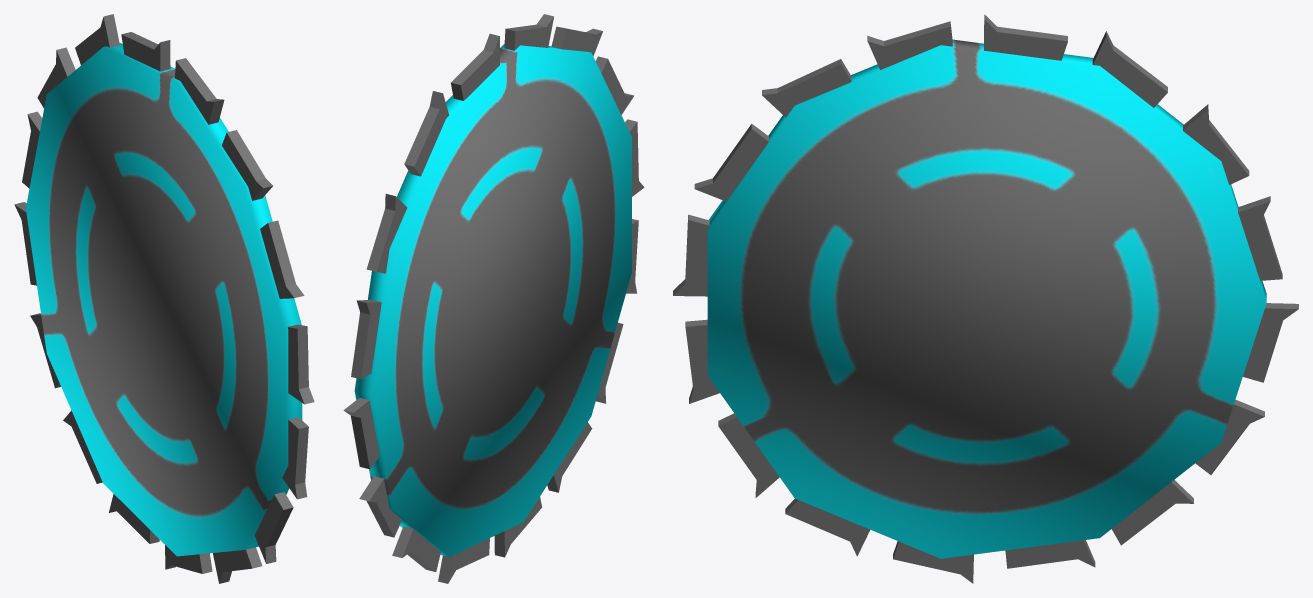
Rendered from Sierra Circular.glb.
3 views of the same model, side by side, from view 1: azimuth 30°, elevation 25°; view 2: azimuth 150°, elevation 25°; view 3: azimuth 270°, elevation 25° (orthographic). The views are drawn at different scales.
Visible parts, largest first — view 1: Circle, Cube; view 2: Circle, Cube; view 3: Circle, Cube.
Part boxes in pixels (bbox=[...]): Circle: bbox=[26, 43, 302, 556]; Cube: bbox=[14, 14, 314, 583]; Circle: bbox=[354, 44, 631, 556]; Cube: bbox=[343, 14, 644, 583]; Circle: bbox=[707, 39, 1266, 558]; Cube: bbox=[673, 14, 1298, 583].
Size of the model in its own units: 0.0756 by 2.18 by 2.19.
2 materials, 1 textured.
